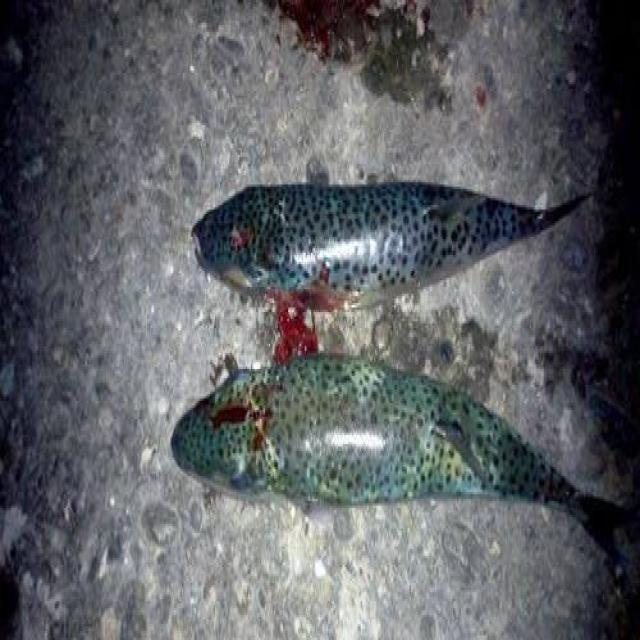Balik: (172, 356, 625, 548), (192, 183, 586, 309)
